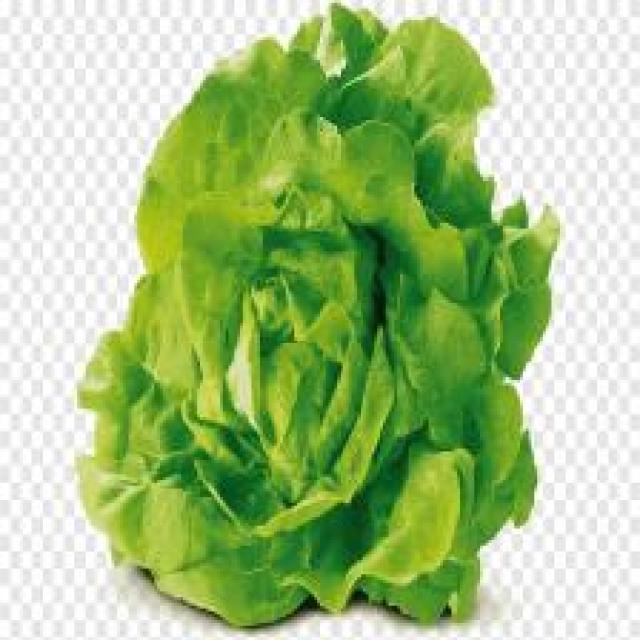Lettuce: (84, 4, 561, 623)
